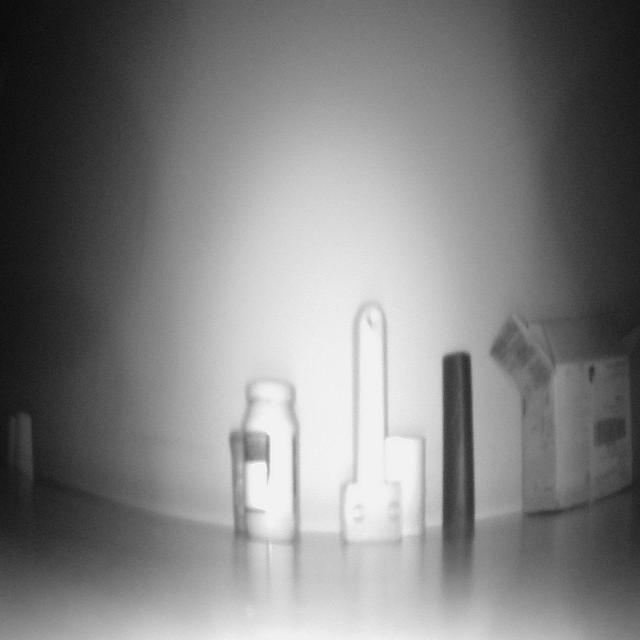targets: (492, 313, 635, 528), (337, 299, 427, 539), (231, 380, 301, 542), (439, 352, 478, 544), (6, 412, 36, 486)
